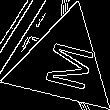M_W: (33, 35, 93, 93)
